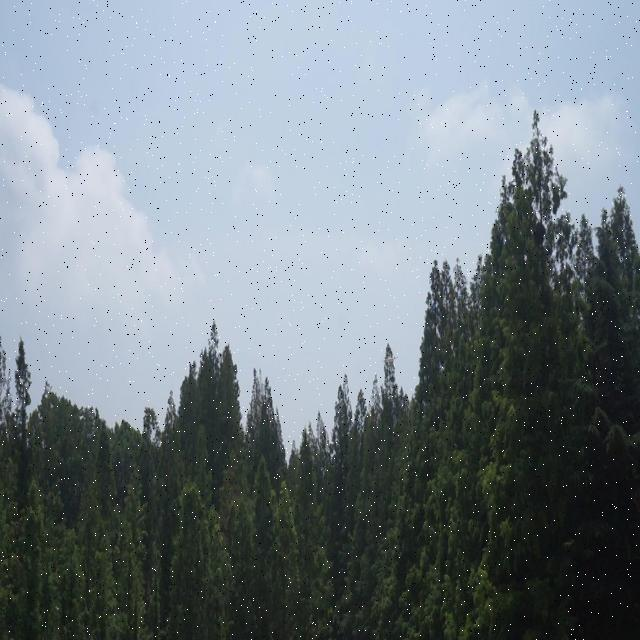UAV: (382, 356, 399, 367)
